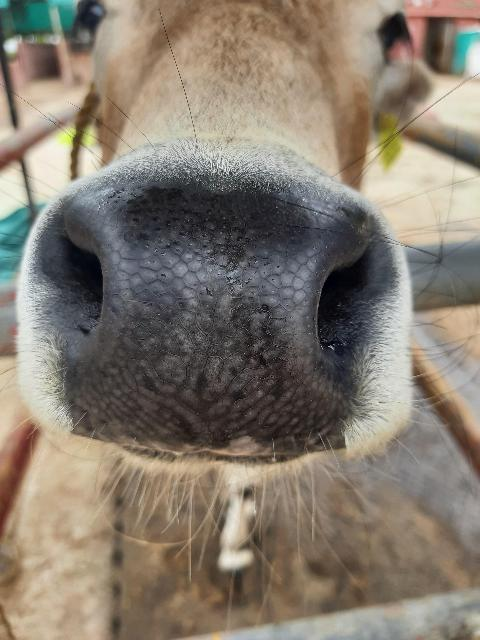Muzzle: (72, 172, 354, 456)
